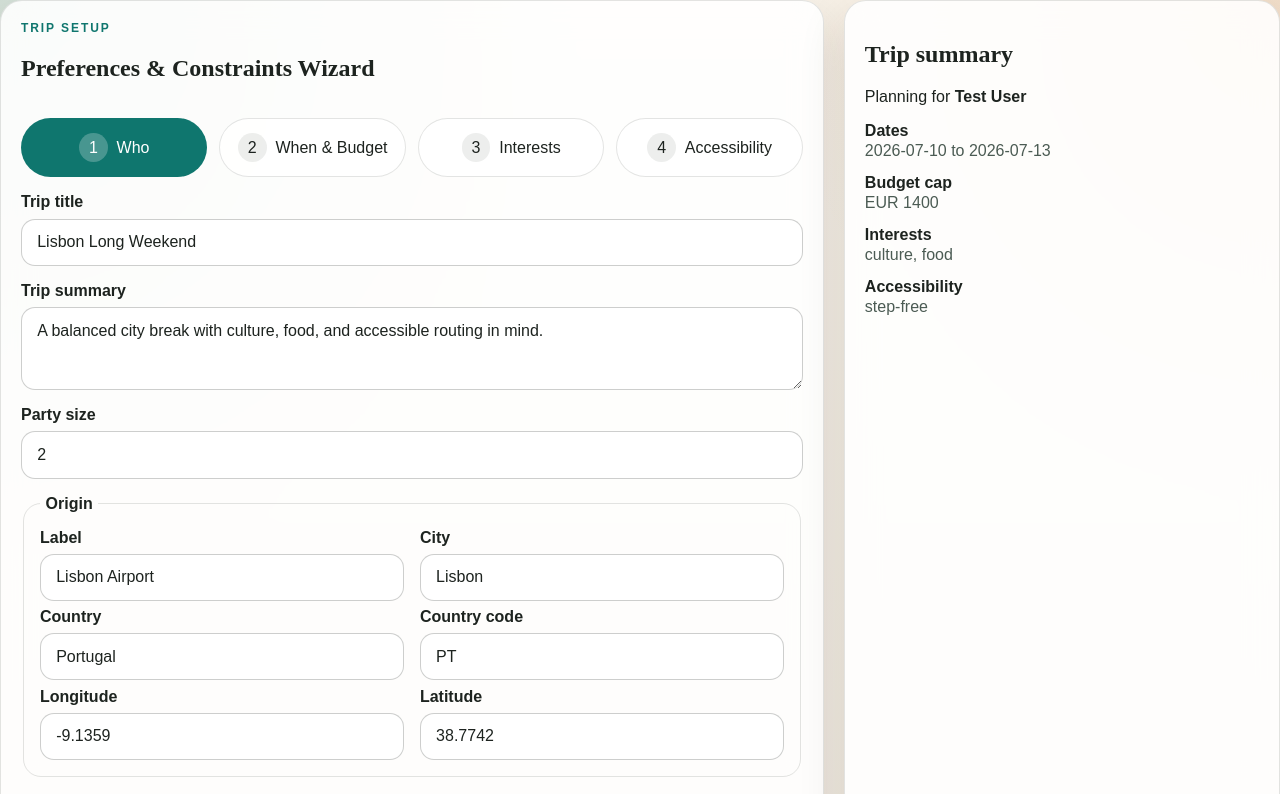
PlanTripPage wizard – accessibility (axe) › step 3 (Accessibility) has no axe violations
The image size is (1280, 794).
Click the button "4 Accessibility" at point(710, 148), box [616,118,803,177]
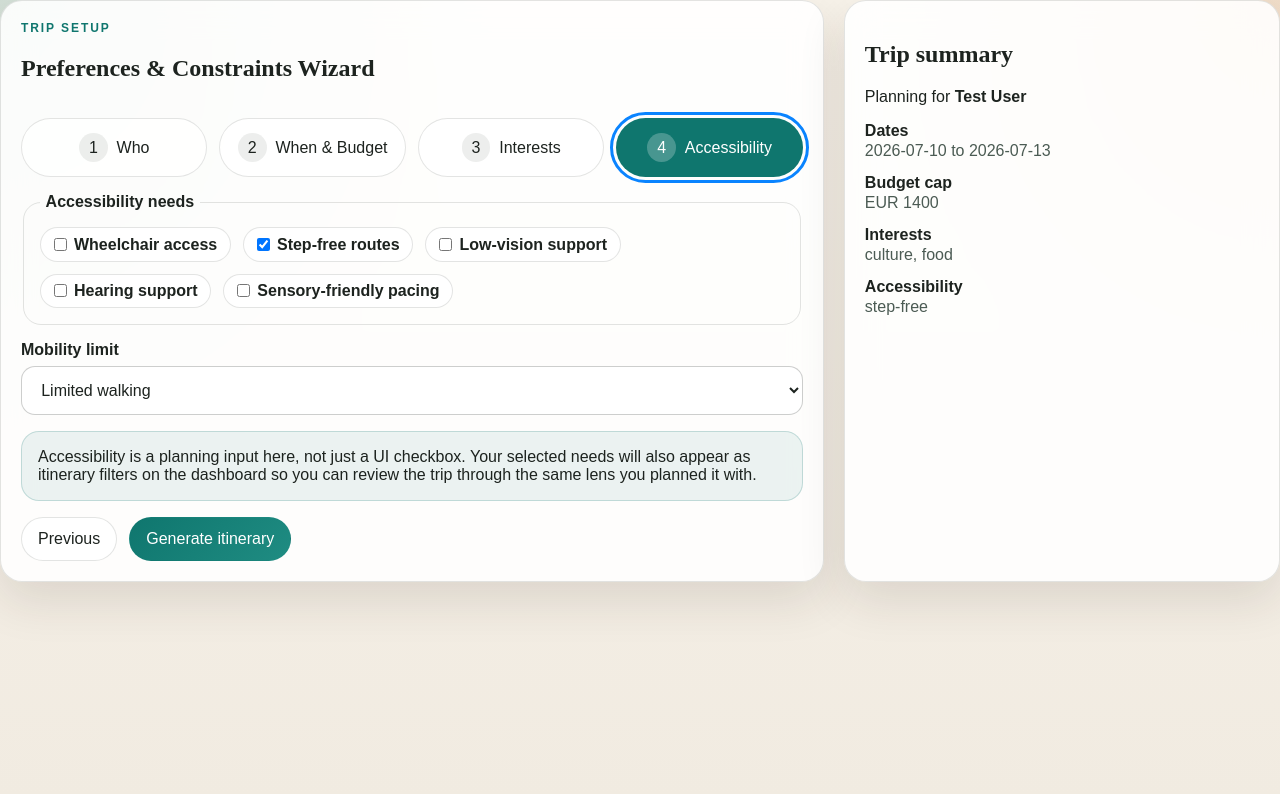
Check: the text "Accessibility needs" is shown, box [40,193,200,211]
